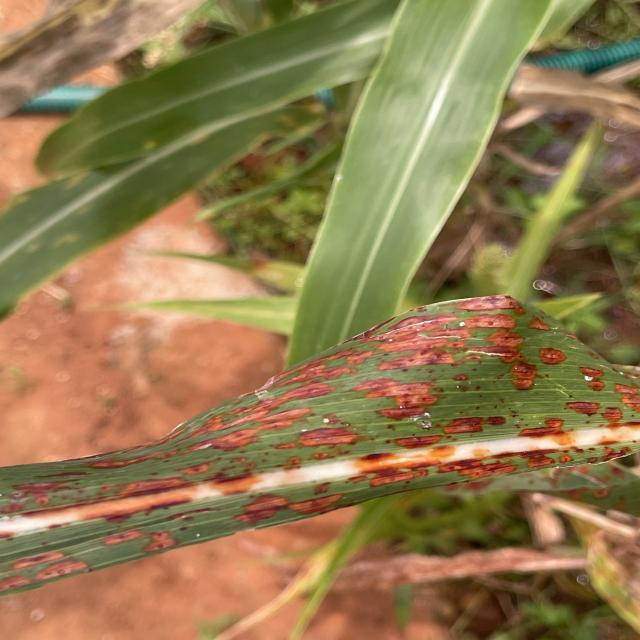millet_healthy: (274, 0, 562, 378)
millet_rust: (0, 291, 640, 591)
